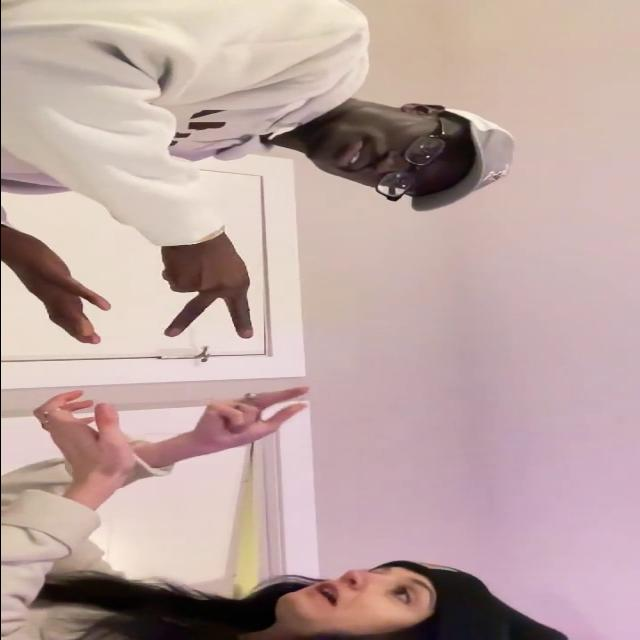Scissors: (161, 232, 258, 342), (196, 388, 308, 448)
